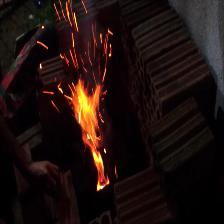fire: (50, 14, 125, 202)
